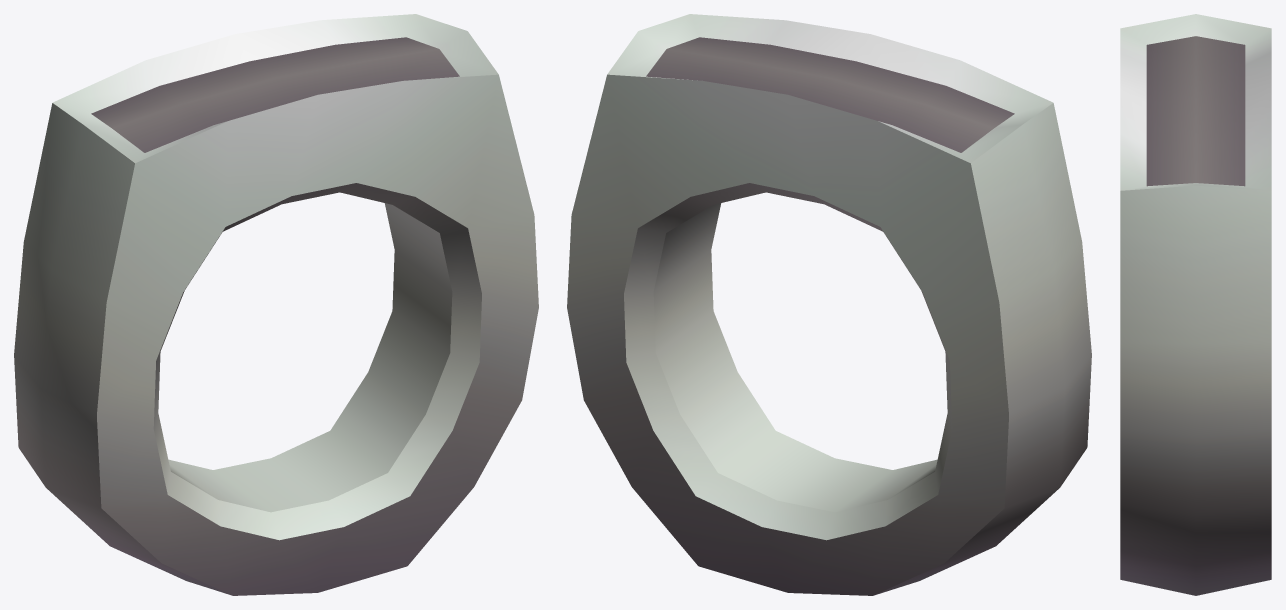
The model's file is Silver_Ring_02.glb.
The picture shows the model from 3 angles, left to right: view 1: azimuth 30°, elevation 25°; view 2: azimuth 150°, elevation 25°; view 3: azimuth 270°, elevation 25°; orthographic projection. The views are drawn at different scales.
Parts seen in each view (by area): view 1: Silver_Ring_02; view 2: Silver_Ring_02; view 3: Silver_Ring_02.
Boxes of the visible parts, x1=… form: Silver_Ring_02: x1=14, y1=14, x2=538, y2=595; Silver_Ring_02: x1=567, y1=14, x2=1091, y2=595; Silver_Ring_02: x1=1120, y1=14, x2=1271, y2=595.
Size of the model in its own units: 0.4853 by 0.5053 by 0.1478.
1 material, 1 textured.
